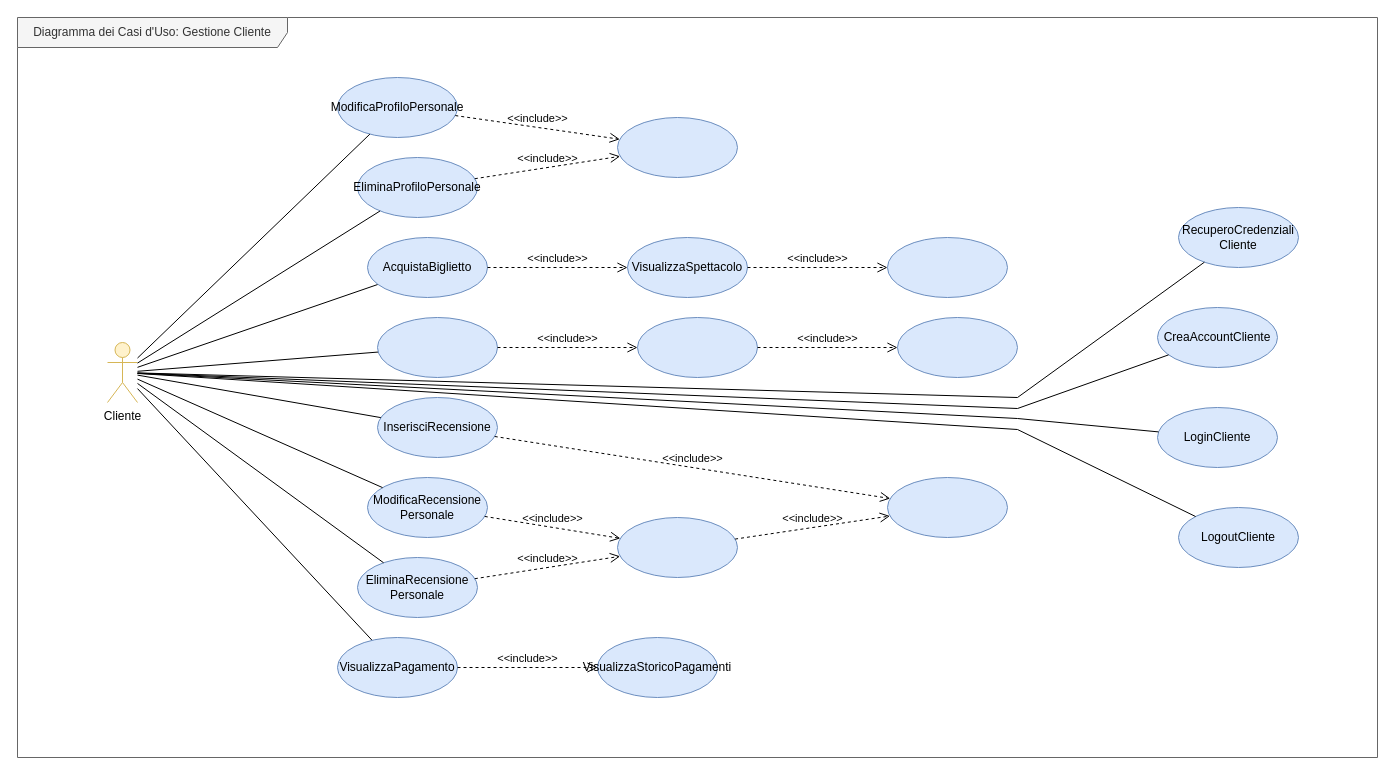
Some shapes in this 1395 by 775 pixel diagram are drawn without their labels. Each missing label, with the centre of its shape:
AcquistaProdotto: (437,347)
VisualizzaProdotti: (957,347)
VisualizzaProdotto: (697,347)
VisualizzaProfiloPersonale: (677,147)
VisualizzaRecensione Personale: (677,547)
VisualizzaRecensioni Personali: (947,507)
VisualizzaSpettacoli: (947,267)
